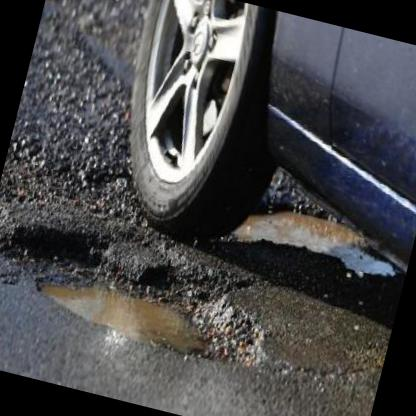pothole: (0, 210, 283, 379)
